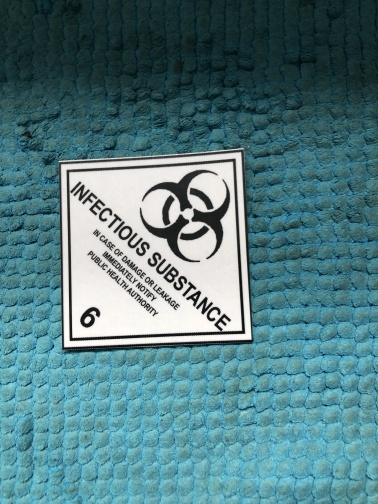InfectiousSubstance: (59, 148, 252, 353)
